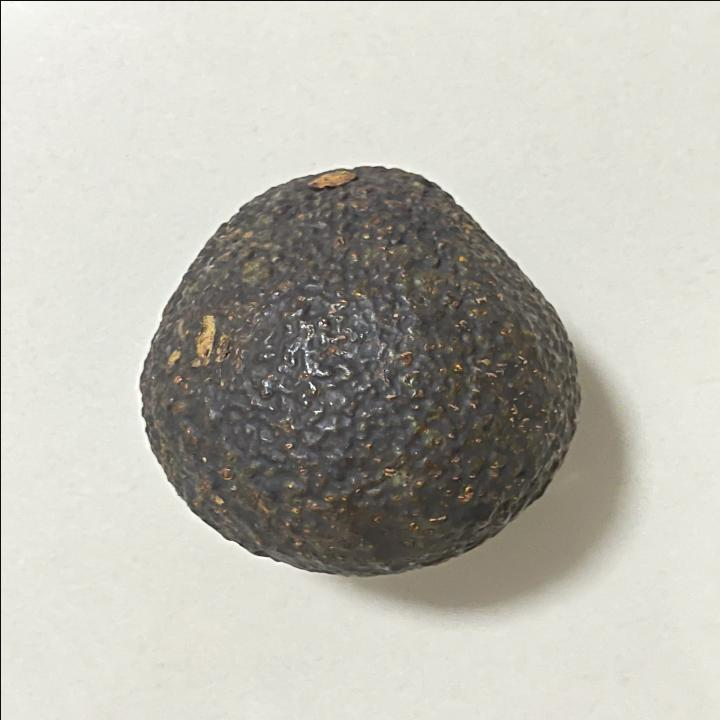Level2: (131, 156, 586, 589)
